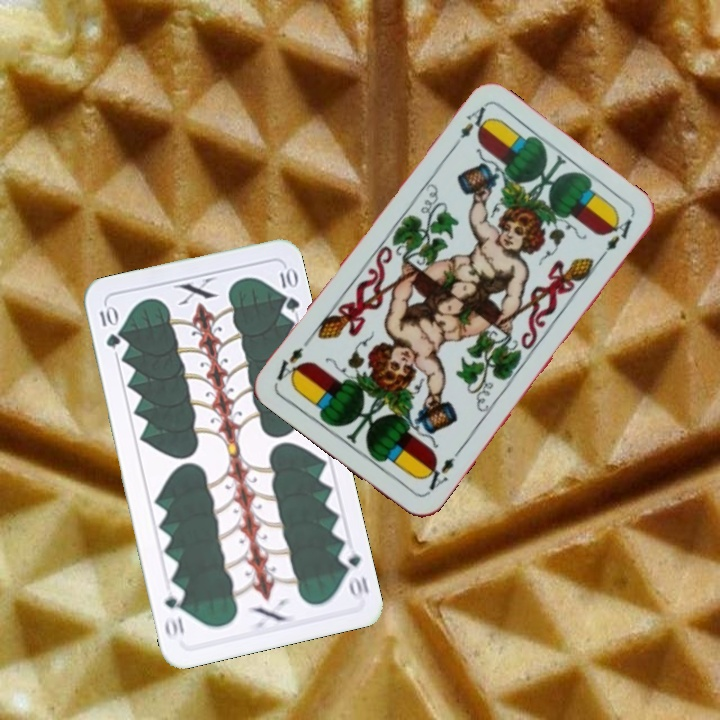EA: (418, 446, 463, 498), (448, 102, 493, 152)
G10: (335, 545, 372, 602), (95, 302, 123, 351)
